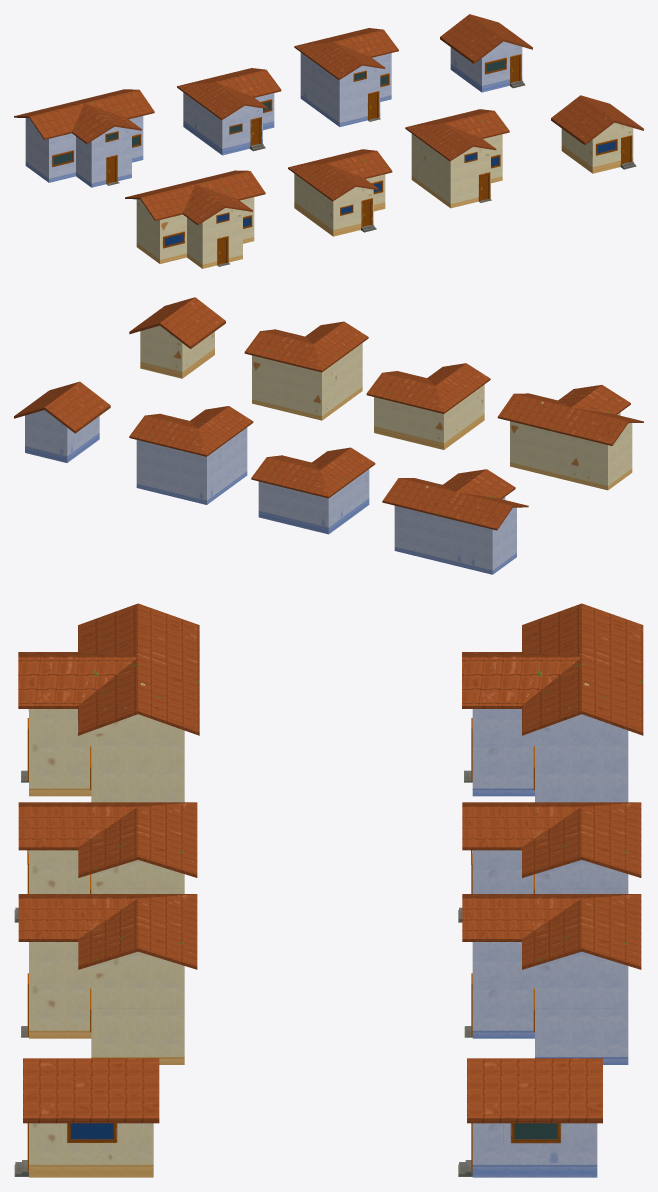
File: SuburbanHouses.fbx
3 views of the same model, one above another, from view 1: azimuth 30°, elevation 25°; view 2: azimuth 150°, elevation 25°; view 3: azimuth 270°, elevation 25° (orthographic). The views are drawn at different scales.
Visible parts, largest first — view 1: House4, House4.2, House2.2, House2, House3, House3.2, House1, House1.2; view 2: House4, House4.2, House2.2, House2, House3.2, House3, House1, House1.2; view 3: House4.2, House4, House2.2, House2, House3.2, House3, House1, House1.2.
Part boxes in pixels (x1=…): House4: x1=125, y1=170, x2=265, y2=268; House4.2: x1=14, y1=89, x2=154, y2=187; House2.2: x1=294, y1=28, x2=398, y2=126; House2: x1=405, y1=109, x2=509, y2=208; House3: x1=288, y1=149, x2=392, y2=236; House3.2: x1=177, y1=68, x2=281, y2=155; House1: x1=551, y1=95, x2=643, y2=173; House1.2: x1=440, y1=14, x2=532, y2=92; House4: x1=497, y1=385, x2=643, y2=490; House4.2: x1=382, y1=469, x2=528, y2=574; House2.2: x1=129, y1=406, x2=253, y2=504; House2: x1=244, y1=321, x2=368, y2=420; House3.2: x1=251, y1=447, x2=375, y2=534; House3: x1=366, y1=363, x2=490, y2=449; House1: x1=129, y1=297, x2=225, y2=378; House1.2: x1=14, y1=381, x2=110, y2=462; House4.2: x1=462, y1=603, x2=643, y2=802; House4: x1=18, y1=603, x2=199, y2=802; House2.2: x1=462, y1=894, x2=641, y2=1064; House2: x1=18, y1=894, x2=197, y2=1064; House3.2: x1=462, y1=802, x2=641, y2=893; House3: x1=18, y1=802, x2=197, y2=893; House1: x1=23, y1=1058, x2=159, y2=1177; House1.2: x1=467, y1=1058, x2=602, y2=1177.
Size of the model in its own units: 3261 by 395 by 1869.
Materials: 2 (2 with a texture image).
